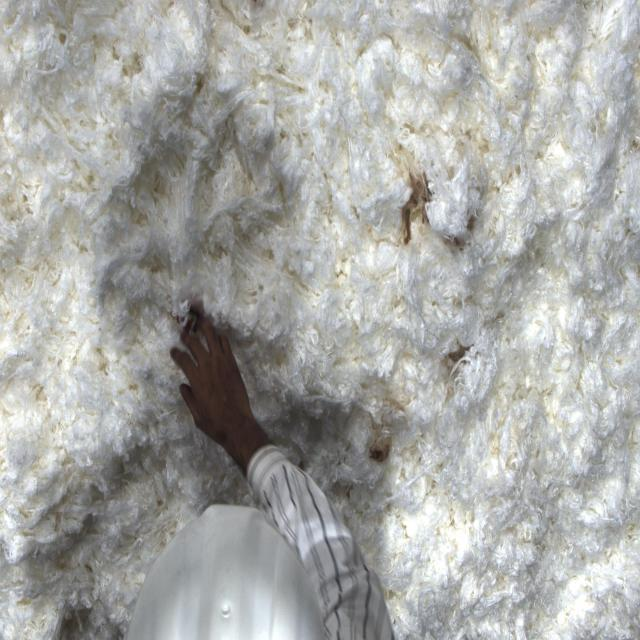dust: (397, 166, 484, 248), (357, 417, 408, 501)
